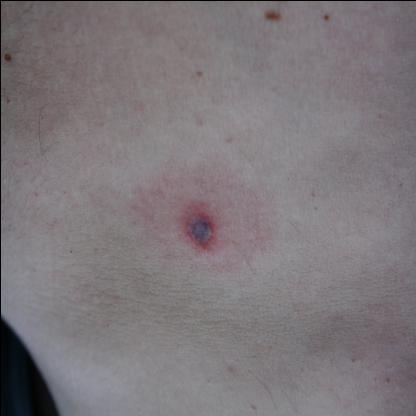Tick: (173, 199, 227, 251)
